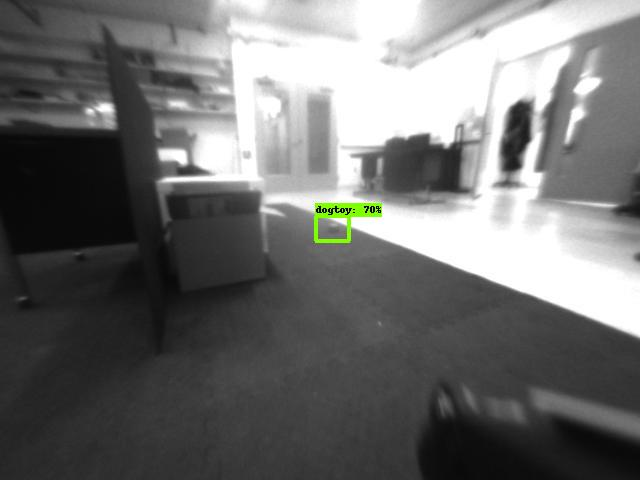dogtoy: (316, 217, 352, 236)
